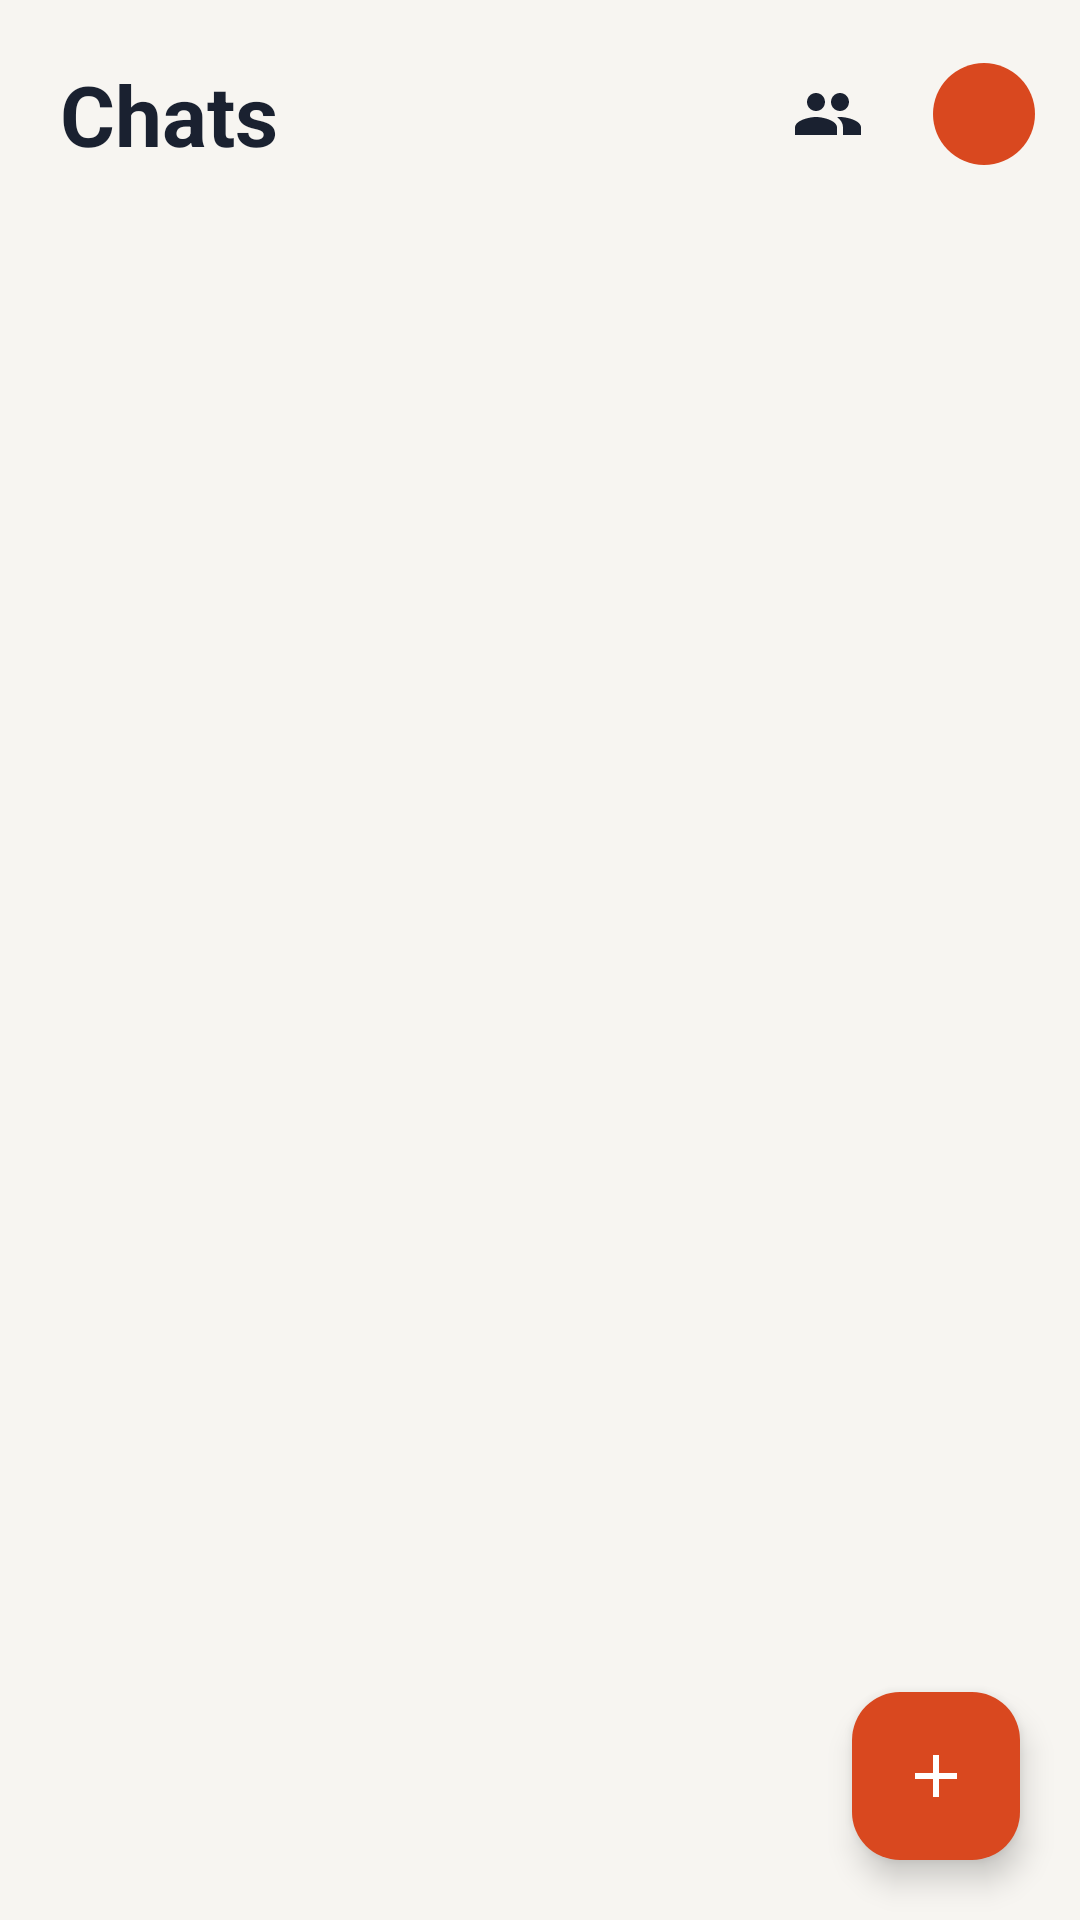

Where to tap for icons on this 1080*1920 app screen, as (x=x, y=y):
People: (x=828, y=114)
